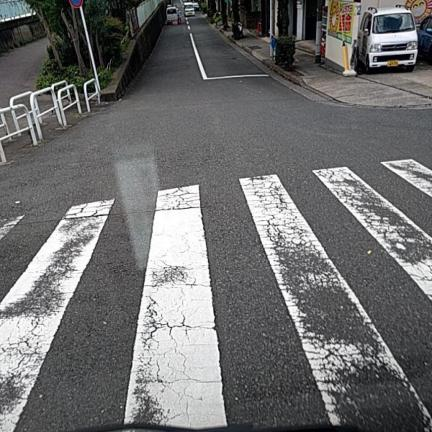Road: (0, 17, 431, 431)
